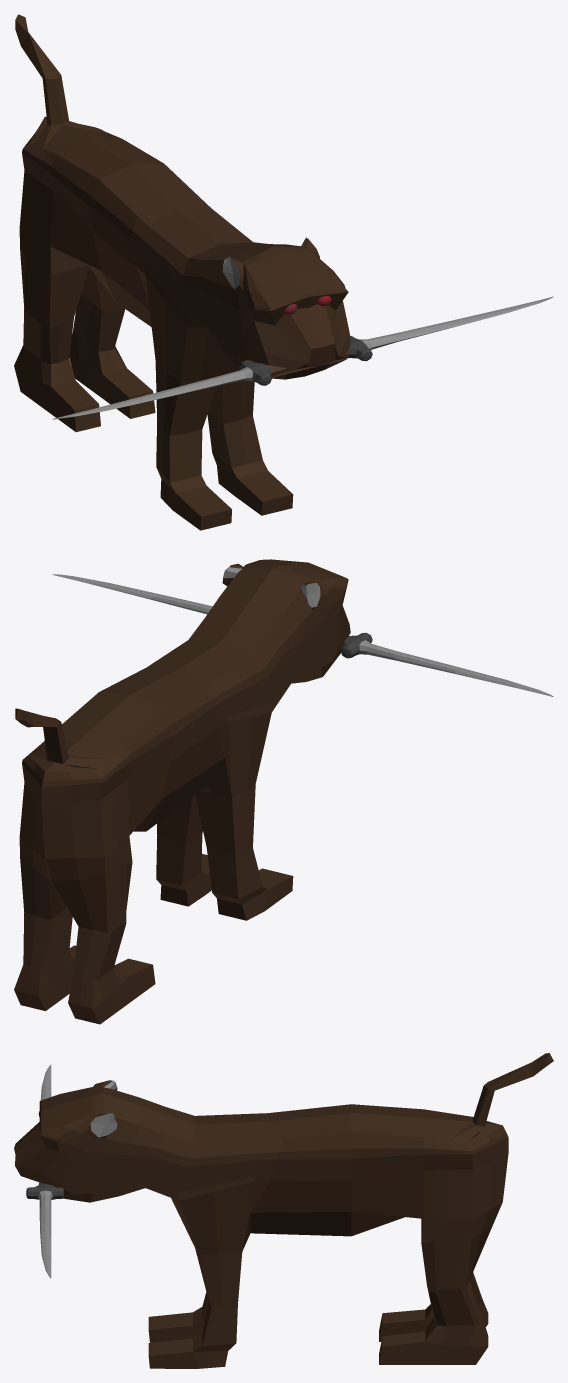
Rendered from Melee Monkey.fbx.
3 views of the same model, one above another, from view 1: azimuth 30°, elevation 25°; view 2: azimuth 150°, elevation 25°; view 3: azimuth 270°, elevation 25° (orthographic). The views are drawn at different scales.
Parts seen in each view (by area): view 1: Cube, Cube.001; view 2: Cube, Cube.001; view 3: Cube, Cube.001.
Boxes of the visible parts, bbox=[...] form: Cube: bbox=[14, 14, 350, 530]; Cube.001: bbox=[52, 296, 553, 419]; Cube: bbox=[14, 559, 350, 1024]; Cube.001: bbox=[52, 574, 553, 696]; Cube: bbox=[14, 1053, 553, 1368]; Cube.001: bbox=[26, 1064, 64, 1278].
Size of the model in its own units: 810 by 522 by 862.
